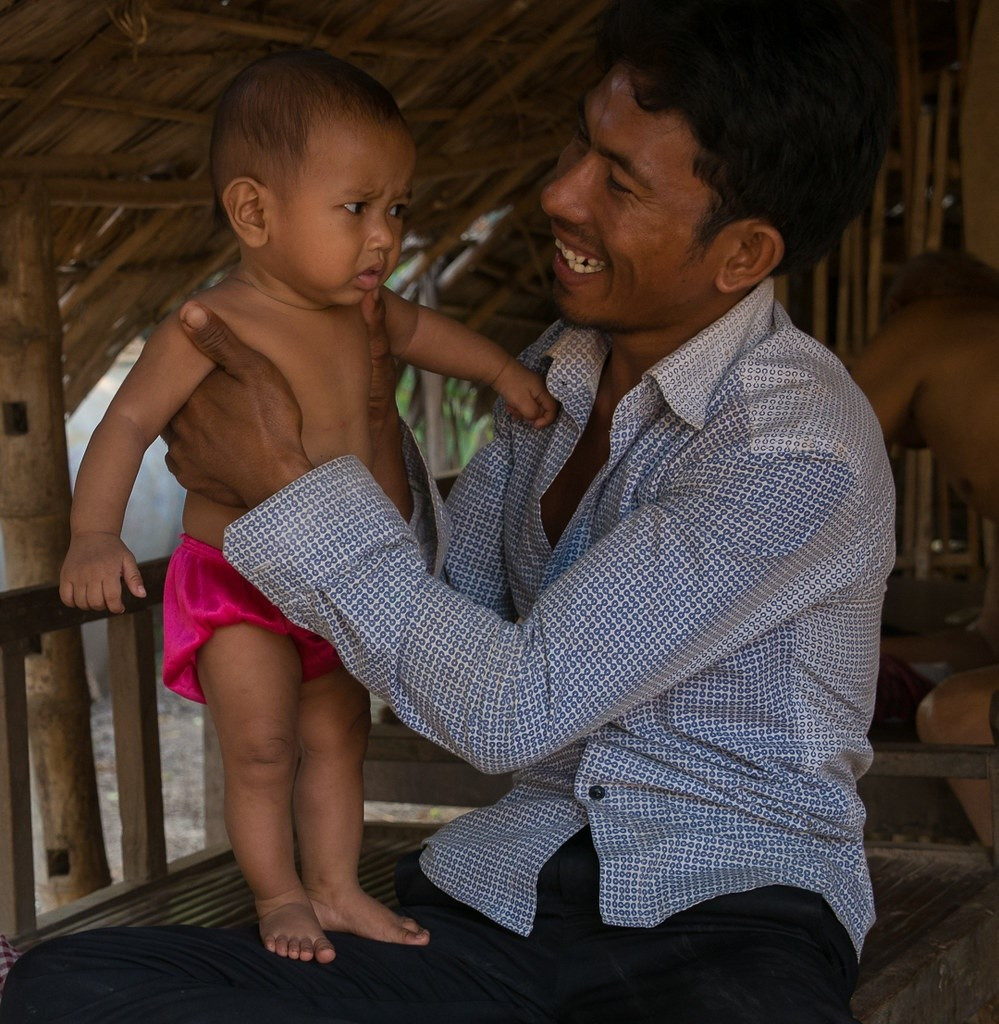face_no_mask: (538, 34, 788, 333), (209, 57, 413, 303)
